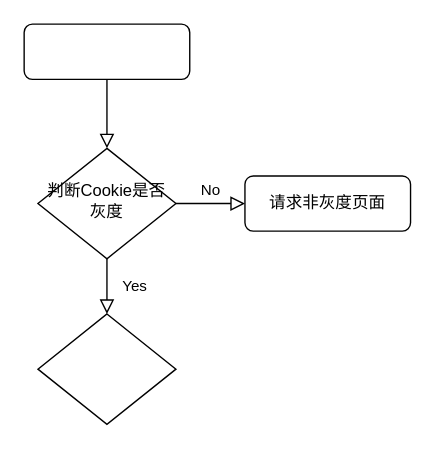
Some shapes in this 435 by 449 pixel diagram are drawn without their labels. The shapes that lost their labels are listed below. From the top down, each one's centre as x and y in pixels, then its label:
the point at 106,51: 开始
the point at 106,368: 请求灰度页面
